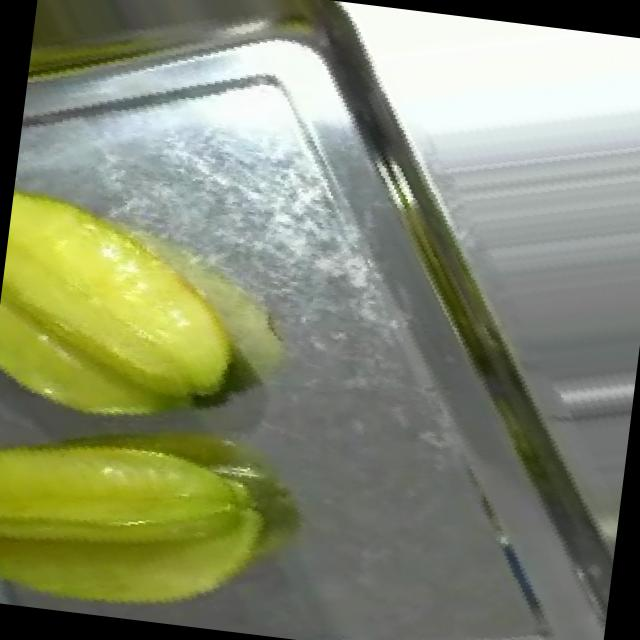fruit: (0, 126, 294, 477), (0, 390, 308, 638)
